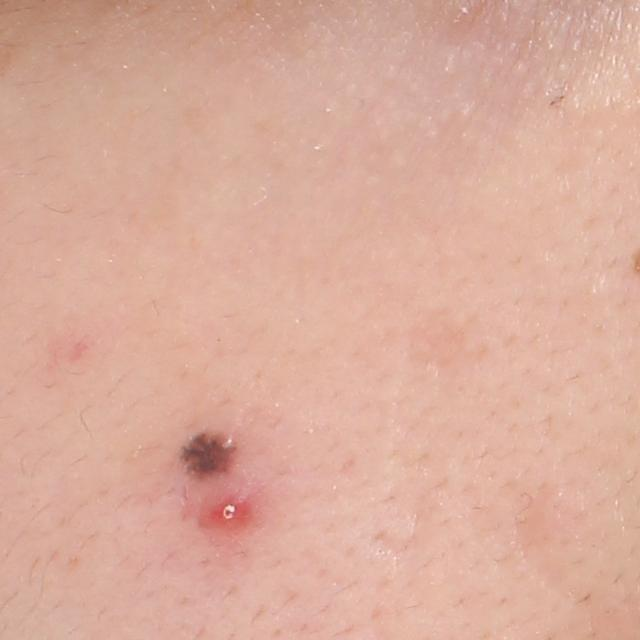nevus: (179, 428, 235, 477)
